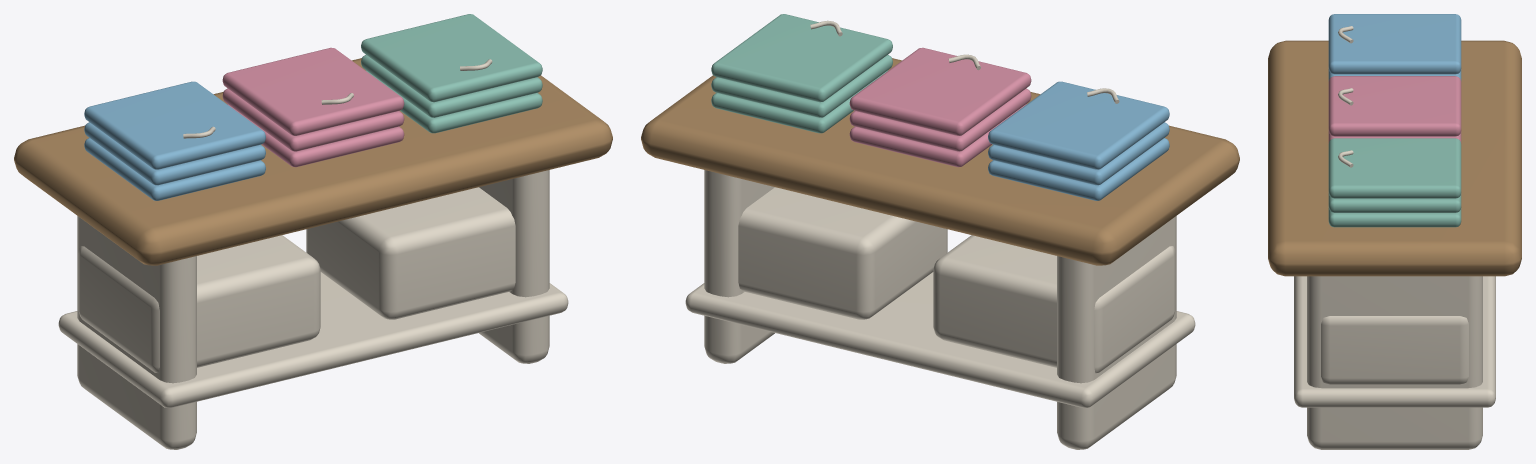
File: cl_island.glb
The picture shows the model from 3 angles, left to right: view 1: azimuth 30°, elevation 25°; view 2: azimuth 150°, elevation 25°; view 3: azimuth 270°, elevation 25°; orthographic projection. The views are drawn at different scales.
Visible parts, largest first — view 1: prop; view 2: prop; view 3: prop.
Boxes of the visible parts, bbox=[...] form: prop: bbox=[14, 14, 612, 449]; prop: bbox=[641, 14, 1239, 449]; prop: bbox=[1268, 14, 1521, 449].
Bounding box in the file's own units: 1.75 × 1.05 × 0.88.
